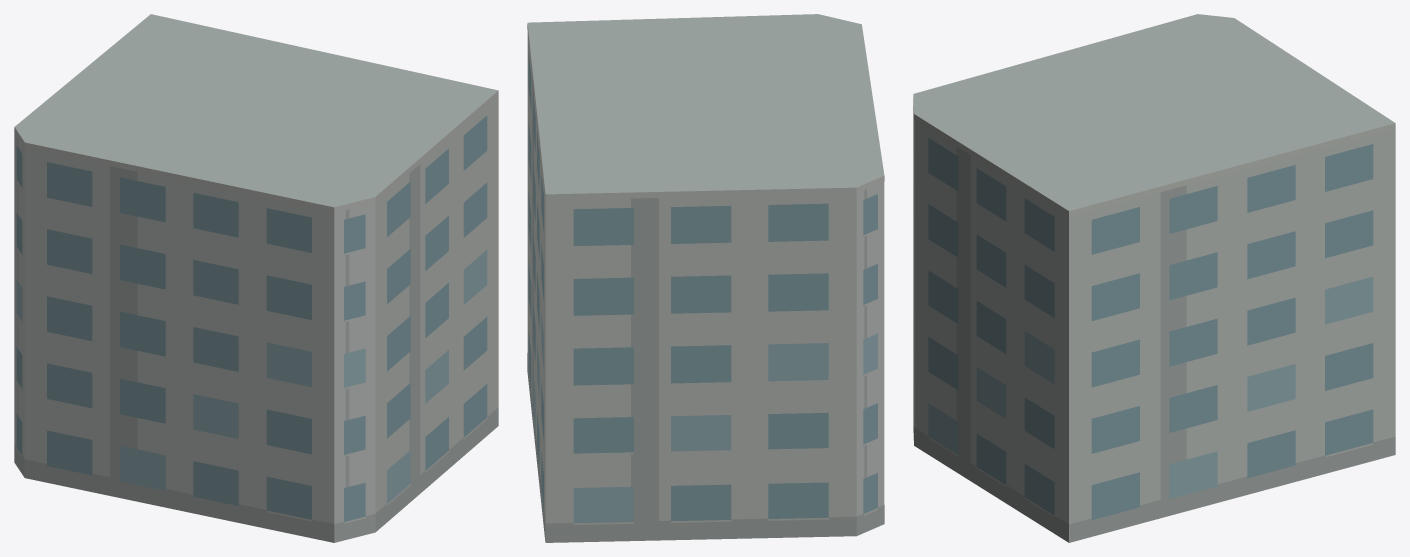
File: residential-a8c31f9d-254b-4bc1-8a1a-4aa78e636872.glb
3 renders of one model, left to right at view 1: azimuth 30°, elevation 25°; view 2: azimuth 150°, elevation 25°; view 3: azimuth 270°, elevation 25°, orthographic. The views are drawn at different scales.
Parts seen in each view (by area): view 1: residential-a8c31f9d-254b-4bc1-8a1a-4aa78e636872.tmp; view 2: residential-a8c31f9d-254b-4bc1-8a1a-4aa78e636872.tmp; view 3: residential-a8c31f9d-254b-4bc1-8a1a-4aa78e636872.tmp.
Part boxes in pixels (x1=…): residential-a8c31f9d-254b-4bc1-8a1a-4aa78e636872.tmp: x1=14, y1=14, x2=498, y2=542; residential-a8c31f9d-254b-4bc1-8a1a-4aa78e636872.tmp: x1=527, y1=14, x2=884, y2=542; residential-a8c31f9d-254b-4bc1-8a1a-4aa78e636872.tmp: x1=913, y1=14, x2=1395, y2=542.
Size of the model in its own units: 18.11 by 14.2 by 18.72.
